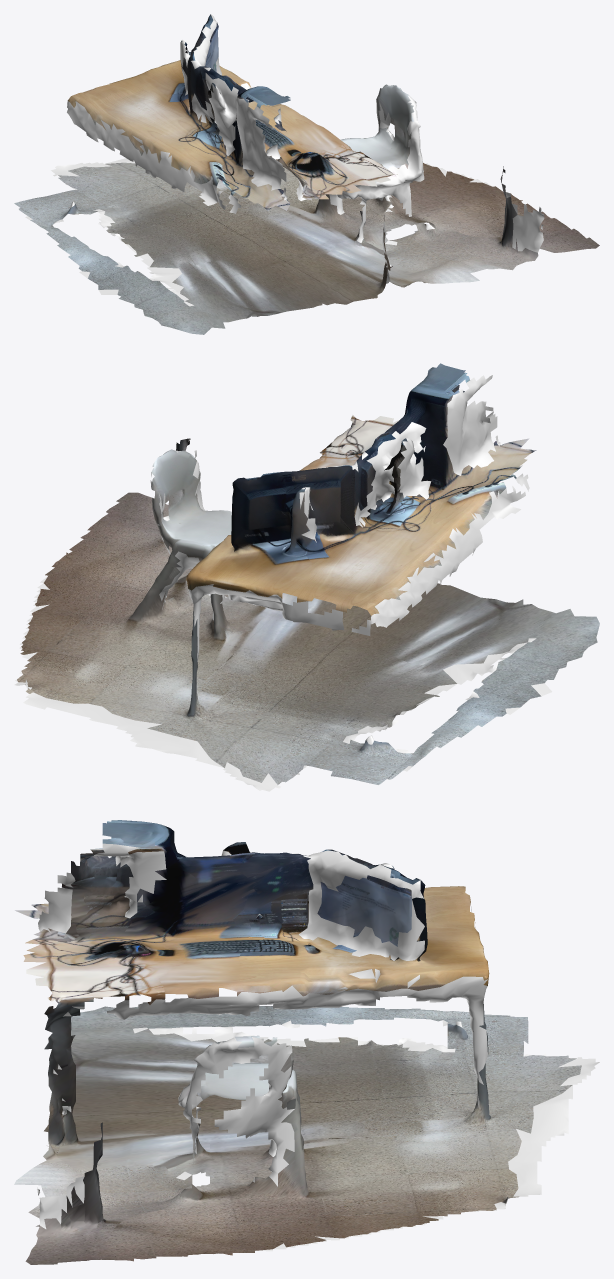
3 renders of one model, top to bottom at view 1: azimuth 30°, elevation 25°; view 2: azimuth 150°, elevation 25°; view 3: azimuth 270°, elevation 25°, orthographic. The views are drawn at different scales.
Visible parts, largest first — view 1: 2, 1, 0; view 2: 2, 1, 0; view 3: 2, 1, 0.
Part boxes in pixels (bbox=[...]): 2: bbox=[40, 16, 538, 334]; 1: bbox=[14, 14, 599, 287]; 0: bbox=[25, 14, 544, 306]; 2: bbox=[147, 363, 599, 784]; 1: bbox=[17, 385, 464, 784]; 0: bbox=[14, 375, 551, 791]; 2: bbox=[15, 820, 581, 1226]; 1: bbox=[14, 847, 528, 1264]; 0: bbox=[37, 843, 599, 1251].
Size of the model in its own units: 2.82 by 1.28 by 2.61.
Materials: 3 (2 with a texture image).
